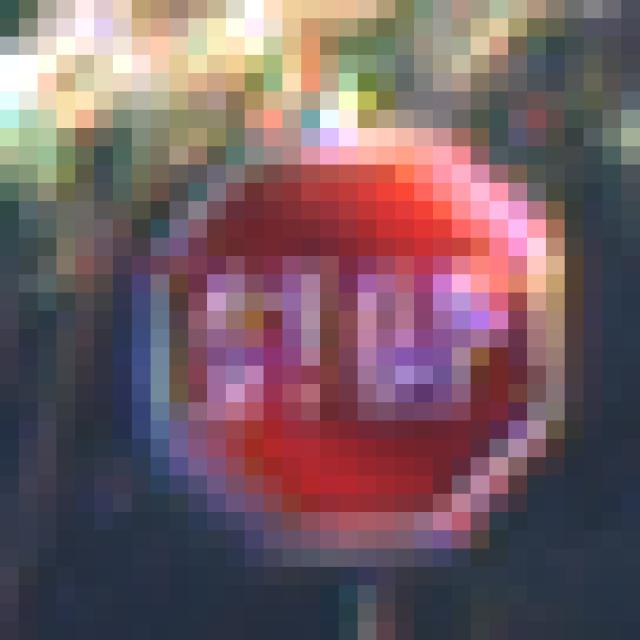STOP: (114, 111, 547, 531)
